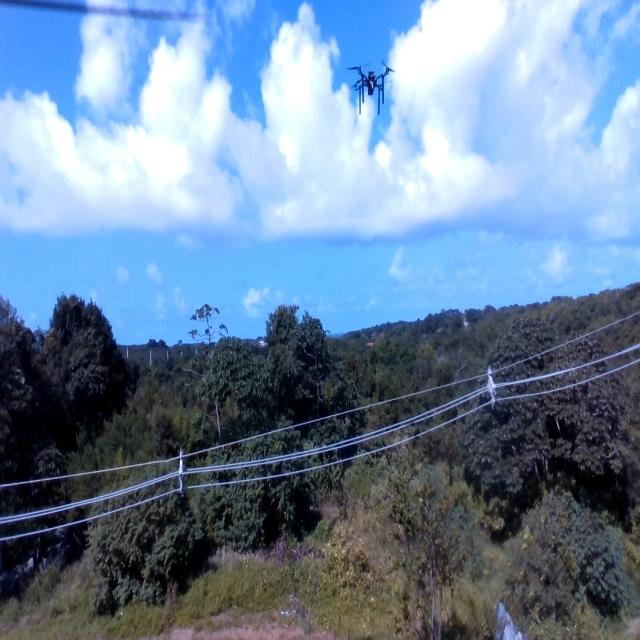-uav-: (340, 47, 402, 132)
